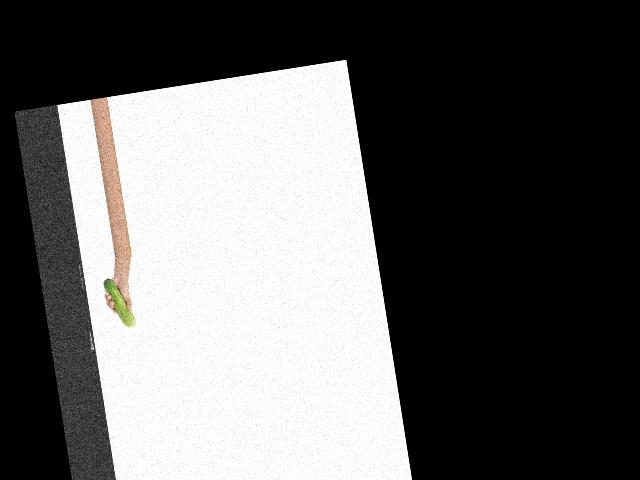cucumber: (102, 275, 136, 329)
